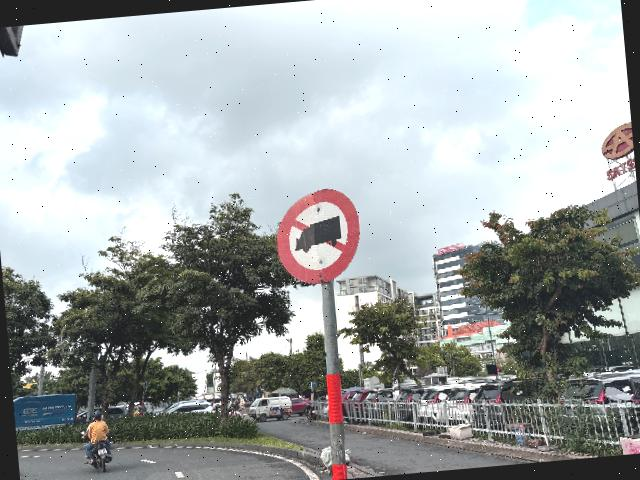cam-xe-tai: (272, 186, 364, 287)
